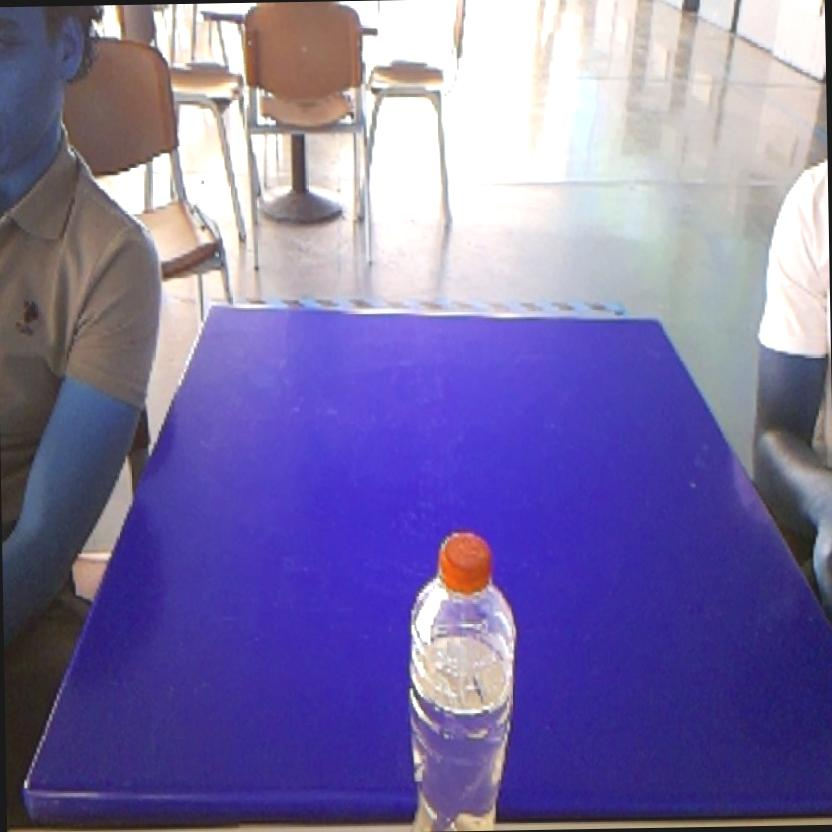no_label: (394, 520, 528, 826)
